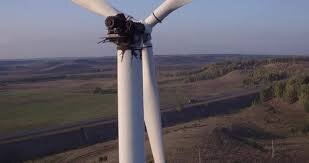faulty: (89, 5, 170, 71)
